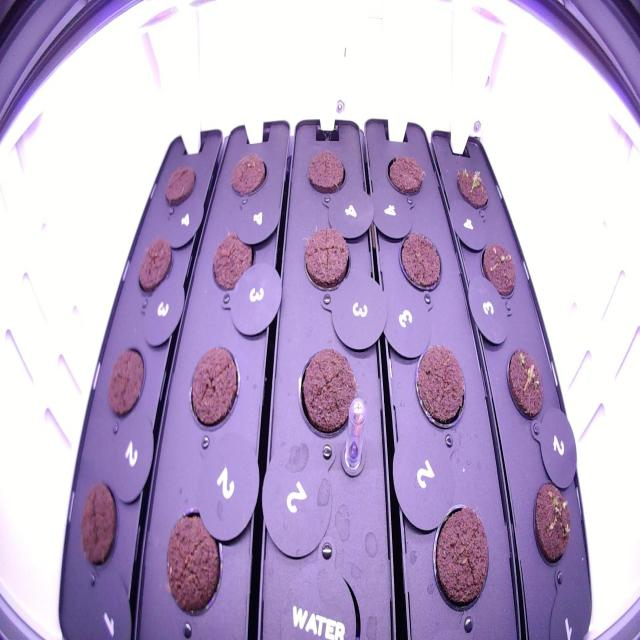germination: (528, 470, 578, 577), (503, 342, 550, 431), (449, 160, 495, 218)
pod: (160, 499, 228, 626), (429, 494, 497, 620), (292, 340, 366, 450), (410, 336, 470, 437), (183, 340, 242, 437), (294, 219, 356, 304), (204, 218, 261, 305), (75, 474, 122, 578), (103, 338, 150, 432), (391, 222, 446, 302), (474, 234, 521, 306), (132, 228, 176, 303), (299, 142, 352, 204), (225, 143, 271, 204), (380, 147, 429, 204), (158, 152, 200, 215)
